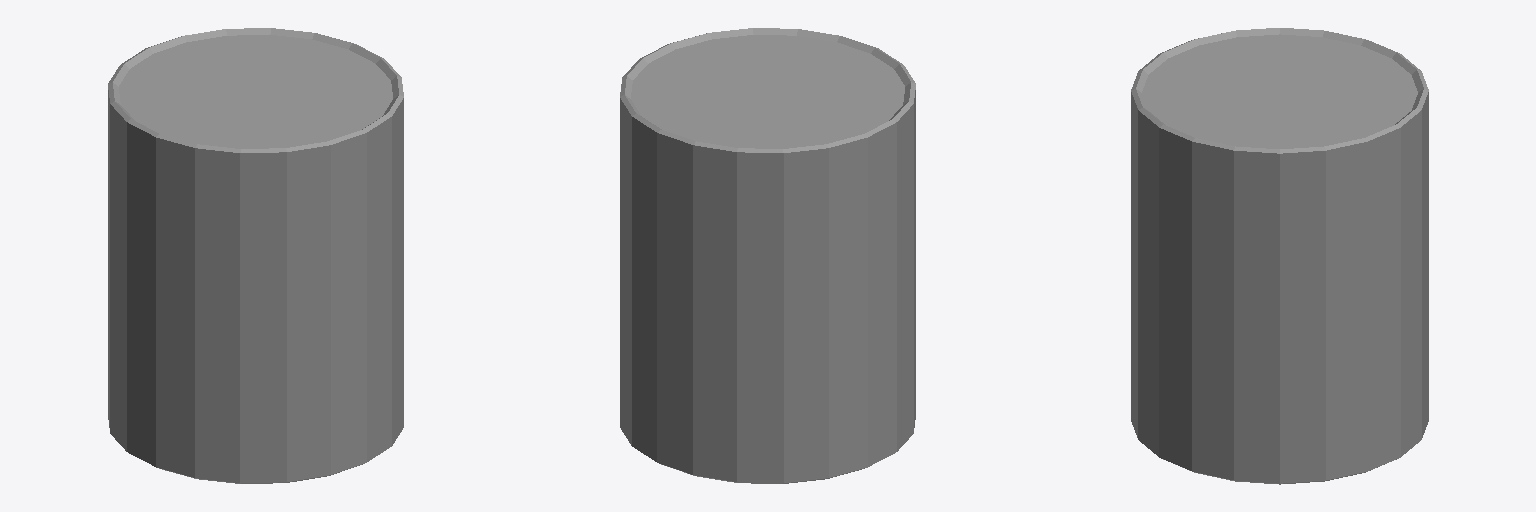
The model's file is Can.obj.
3 views of the same model, side by side, from view 1: azimuth 30°, elevation 25°; view 2: azimuth 150°, elevation 25°; view 3: azimuth 270°, elevation 25° (orthographic).
Parts seen in each view (by area): view 1: Can_Mesh_Cylinder; view 2: Can_Mesh_Cylinder; view 3: Can_Mesh_Cylinder.
Boxes of the visible parts, box(x1,y1,x2,y2) form: Can_Mesh_Cylinder: box(108, 28, 403, 483); Can_Mesh_Cylinder: box(620, 28, 915, 483); Can_Mesh_Cylinder: box(1131, 28, 1428, 484).
Bounding box in the file's own units: 2 × 2.48 × 2.